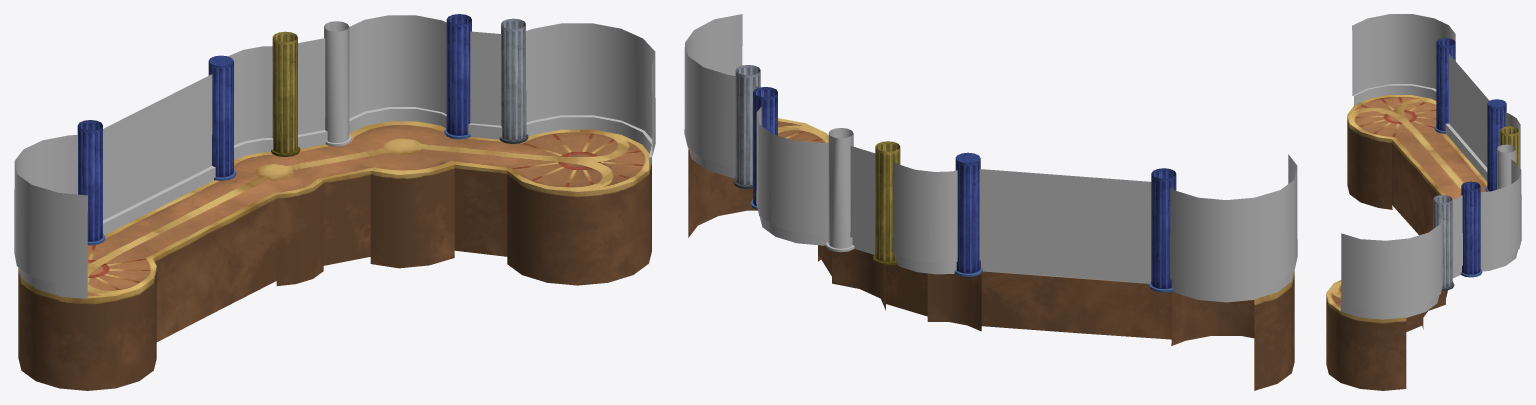
File: Aries10.fbx
The picture shows the model from 3 angles, left to right: view 1: azimuth 30°, elevation 25°; view 2: azimuth 150°, elevation 25°; view 3: azimuth 270°, elevation 25°; orthographic projection. The views are drawn at different scales.
Parts seen in each view (by area): view 1: Floor, Aries_std_Wall, Column3, Column6, Column4, Column5, Column2, Column1; view 2: Aries_std_Wall, Floor, Column4, Column2, Column1, Column3, Column6, Column5; view 3: Aries_std_Wall, Floor, Column5, Column1, Column6, Column2, Column4, Column3.
Part boxes in pixels (x1,y1,x2,y2): Floor: (18, 121, 651, 390); Aries_std_Wall: (14, 15, 655, 298); Column3: (271, 31, 300, 156); Column6: (499, 18, 528, 143); Column4: (324, 21, 351, 146); Column5: (444, 14, 471, 139); Column2: (208, 55, 236, 180); Column1: (77, 120, 105, 245); Aries_std_Wall: (684, 14, 1297, 302); Floor: (688, 118, 1294, 390); Column4: (826, 128, 854, 252); Column2: (954, 152, 982, 276); Column1: (1149, 168, 1176, 292); Column3: (873, 141, 900, 265); Column6: (733, 65, 760, 189); Column5: (750, 87, 777, 210); Aries_std_Wall: (1340, 14, 1521, 319); Floor: (1326, 95, 1487, 390); Column5: (1460, 181, 1482, 277); Column1: (1434, 38, 1455, 133); Column6: (1433, 195, 1454, 290); Column2: (1485, 99, 1506, 191); Column4: (1497, 144, 1516, 189); Column3: (1500, 126, 1519, 166).
Bounding box in the file's own units: 10.27 × 3.34 × 3.73.
